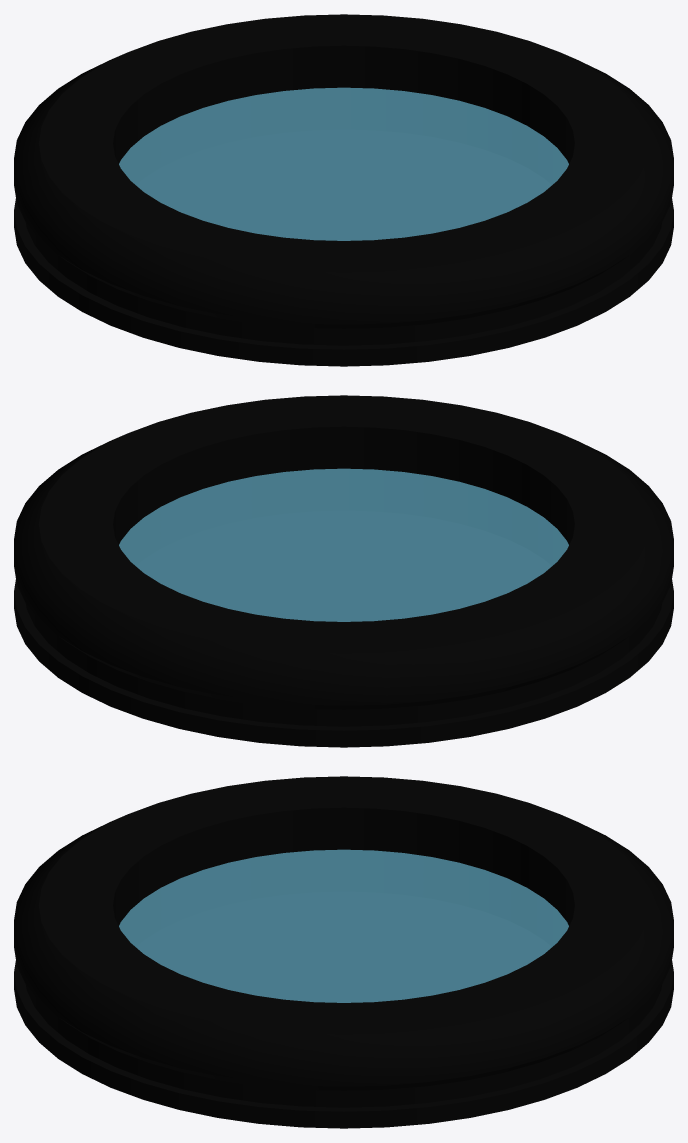
File: fountain-round.glb
3 views of the same model, one above another, from view 1: azimuth 30°, elevation 25°; view 2: azimuth 150°, elevation 25°; view 3: azimuth 270°, elevation 25° (orthographic).
Parts seen in each view (by area): view 1: fountain-round, (%ignore); view 2: fountain-round, (%ignore); view 3: fountain-round, (%ignore).
Boxes of the visible parts, x1,y1,x2,y2 form: fountain-round: (14,14,673,366); (%ignore): (119,87,568,240); fountain-round: (14,395,673,747); (%ignore): (119,468,568,621); fountain-round: (14,776,673,1128); (%ignore): (119,849,568,1002).
Bounding box in the file's own units: 2 × 0.28 × 2.
Materials: 2 (1 with a texture image).
